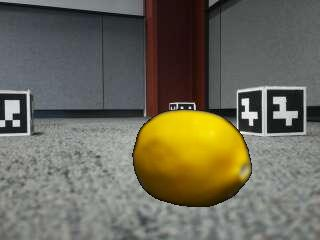lemon: (134, 113, 251, 207)
